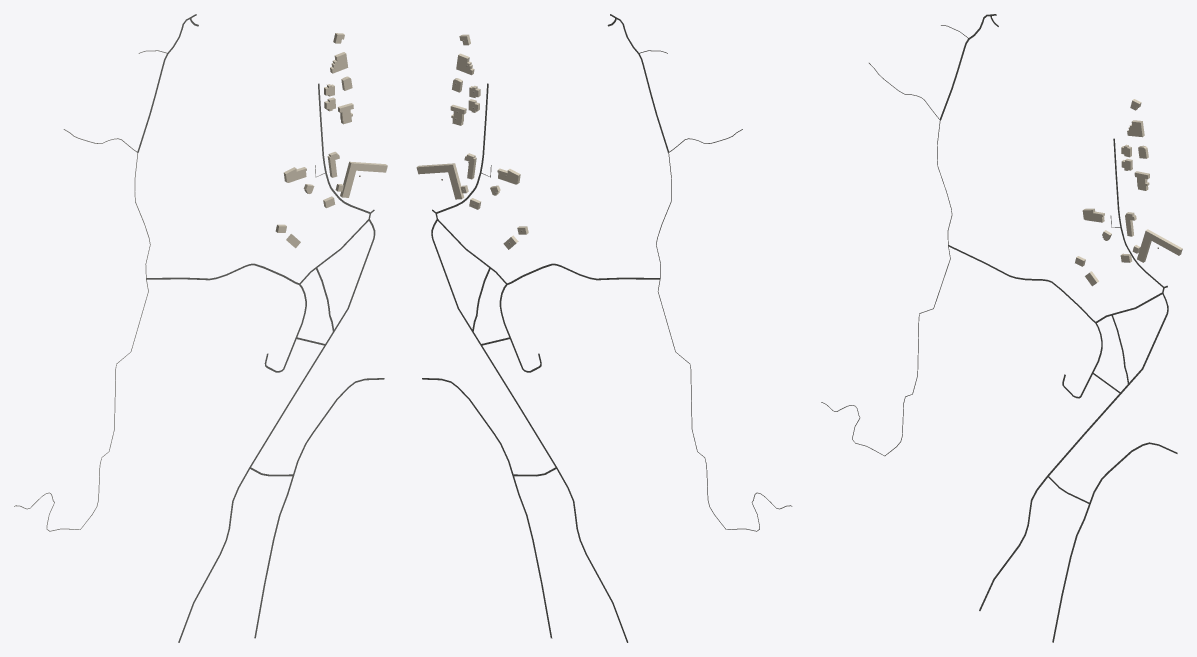
Rendered from historic-palestine-11_25_3525_3197.glb.
3 views of the same model, side by side, from view 1: azimuth 30°, elevation 25°; view 2: azimuth 150°, elevation 25°; view 3: azimuth 330°, elevation 25° (orthographic). The views are drawn at different scales.
Parts seen in each view (by area): view 1: Road Selwad, Road, Road .003, Road .005, Building_.008; view 2: Road Selwad, Road .005, Road .003, Road, Building_.008; view 3: Road Selwad, Road, Road .003, Road .005, Building_.008.
Part boxes in pixels (box(x1,y1,x2,y2)): Road Selwad: box(178, 209, 375, 642); Road: box(14, 153, 150, 531); Road .003: box(254, 378, 384, 638); Road .005: box(146, 263, 306, 372); Building_.008: box(340, 161, 387, 197); Road Selwad: box(431, 209, 628, 642); Road .005: box(499, 263, 659, 372); Road .003: box(422, 378, 552, 638); Road: box(656, 153, 792, 531); Building_.008: box(416, 163, 464, 199); Road Selwad: box(979, 285, 1168, 610); Road: box(821, 120, 952, 456); Road .003: box(1052, 442, 1177, 642); Road .005: box(948, 245, 1102, 398); Building_.008: box(1137, 229, 1182, 262).
Size of the model in its own units: 739 by 1207 by 8.7.
